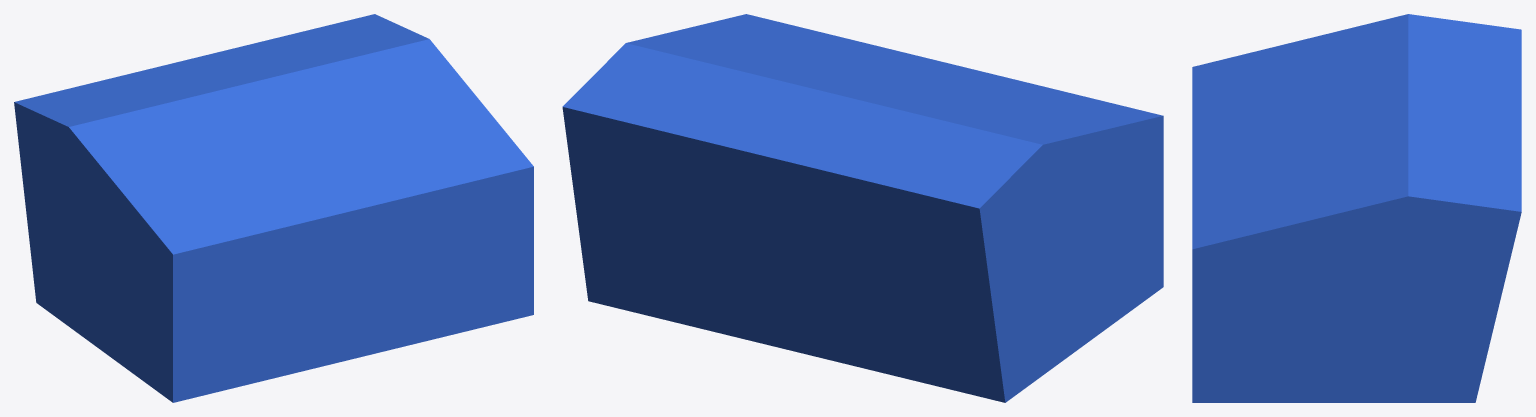
The model's file is Collision_FarmCrate_Leek.fbx.
The picture shows the model from 3 angles, left to right: view 1: azimuth 30°, elevation 25°; view 2: azimuth 150°, elevation 25°; view 3: azimuth 270°, elevation 25°; orthographic projection. The views are drawn at different scales.
Visible parts, largest first — view 1: UCX_FarmCrate_Leek_1; view 2: UCX_FarmCrate_Leek_1; view 3: UCX_FarmCrate_Leek_1.
Part boxes in pixels (<box>): UCX_FarmCrate_Leek_1: <box>14,14,533,402</box>; UCX_FarmCrate_Leek_1: <box>562,14,1163,402</box>; UCX_FarmCrate_Leek_1: <box>1192,14,1521,402</box>.
Bounding box in the file's own units: 62.21 × 32.87 × 47.51.
